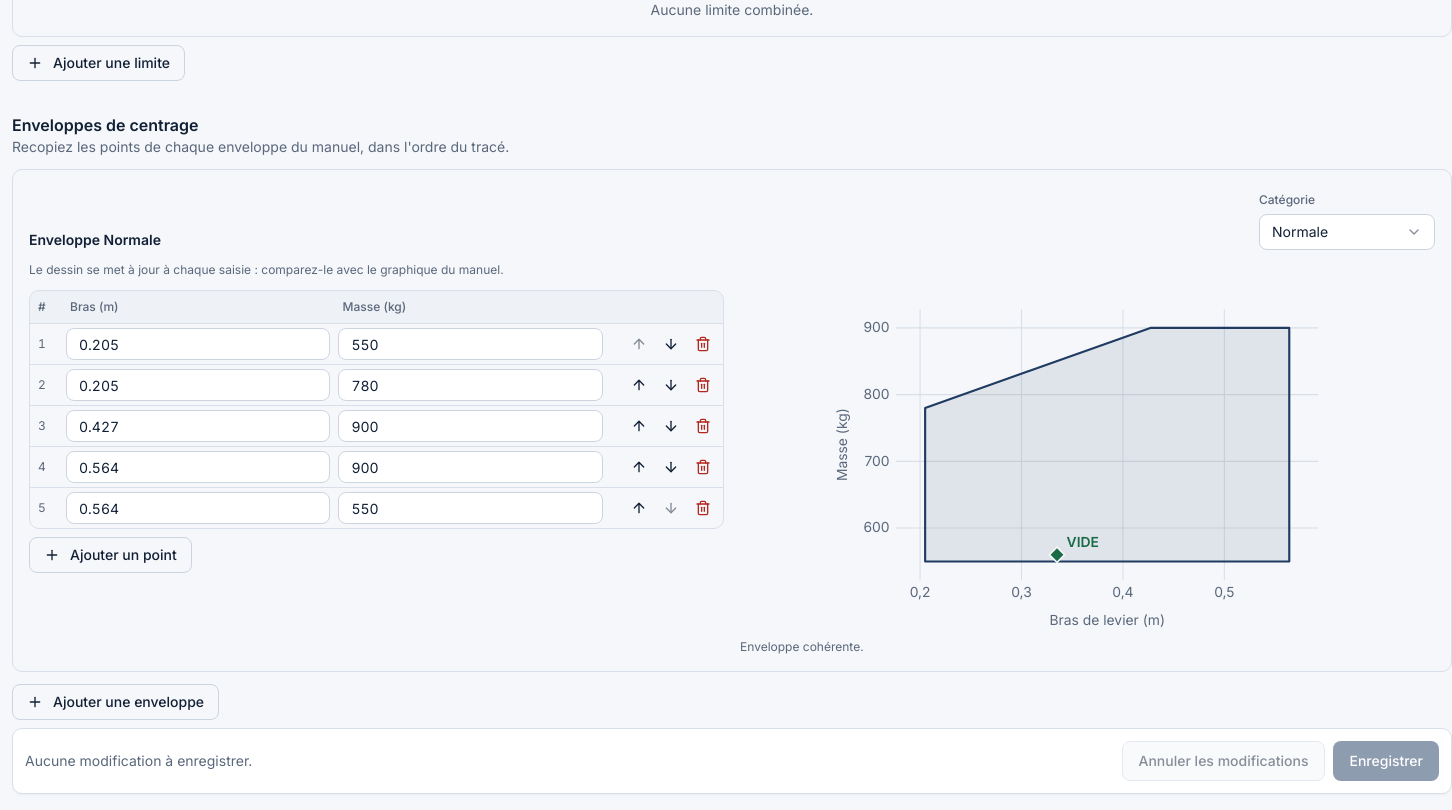
aircraft flight data (administration) › refuses to save an envelope whose sides cross, and draws it as typed
(page scrolled)
Expected: the picture named "Aperçu de l'enveloppe" is shown, [832,290,1344,631]
Point 3 moved down below point 2: the sides cross.
Replace the text in the field named "Masse, ligne 3 (kg)" with "500" at (471, 426), box [338,410,603,442]
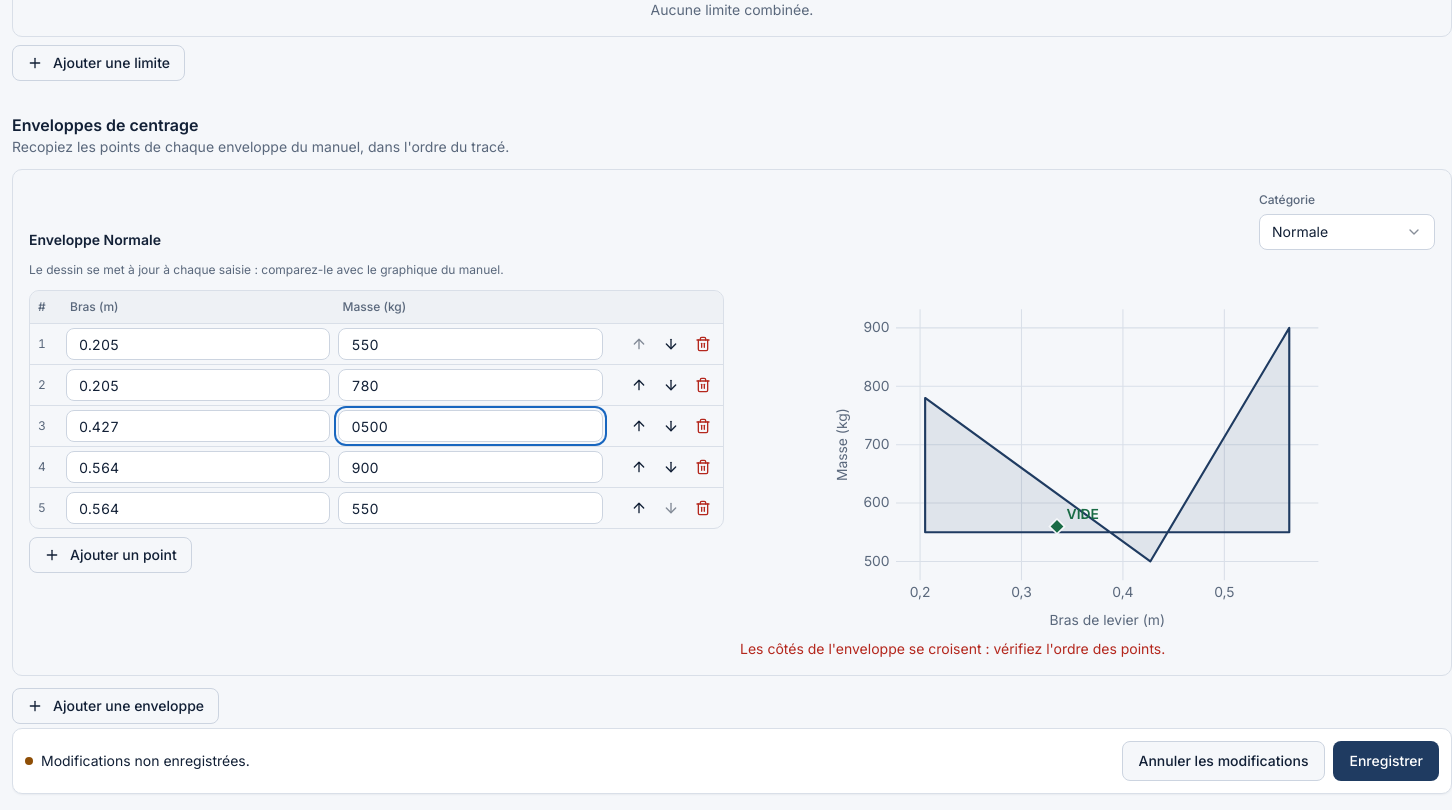
Expected: the text "Les côtés de l'enveloppe se croisent : vérifiez l'ordre des points." is shown, [740,640,1165,657]
Click the button "Enregistrer" at (1386, 761), box [1334,741,1439,781]
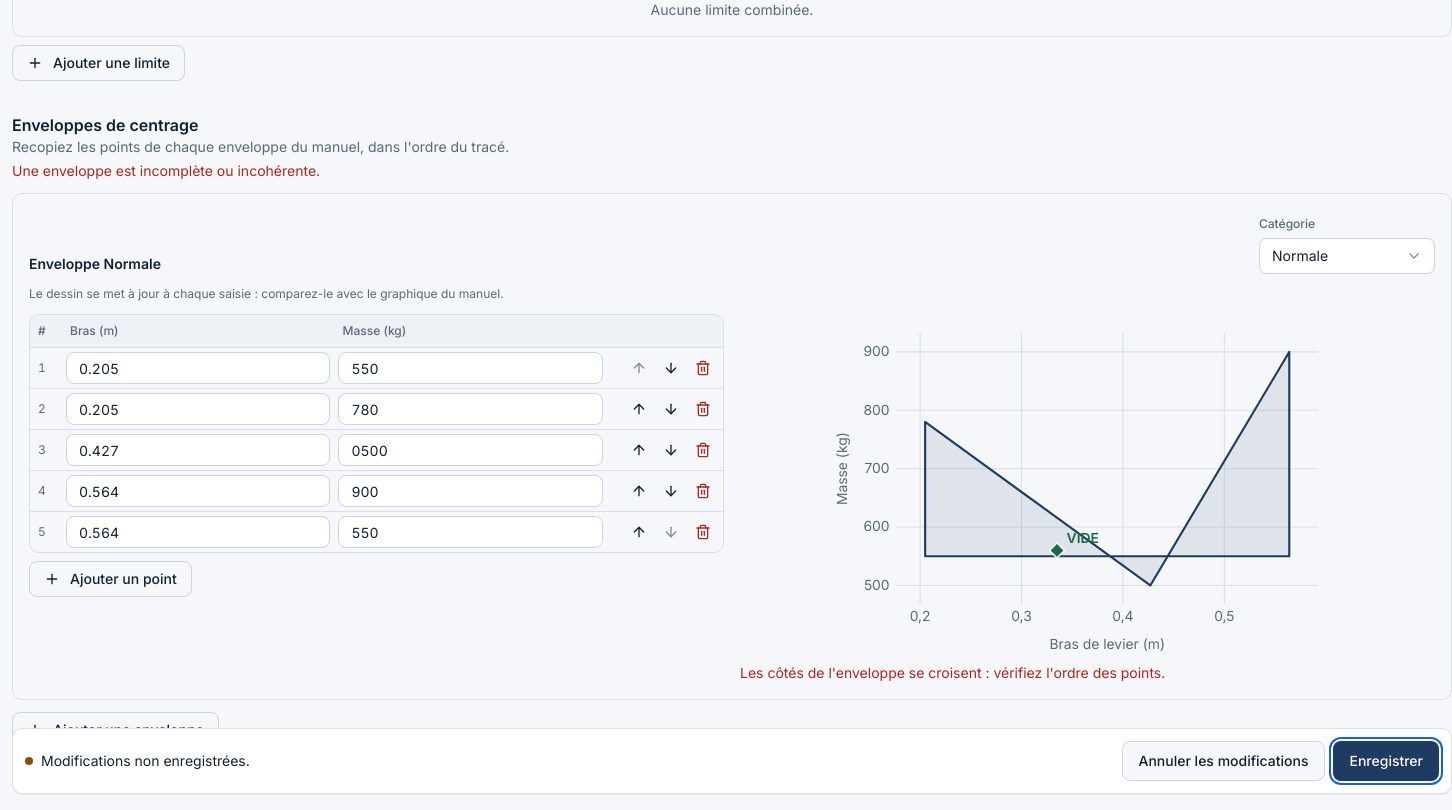
Expected: the text "Une enveloppe est incomplète ou incohérente." is shown, [12,162,320,179]
